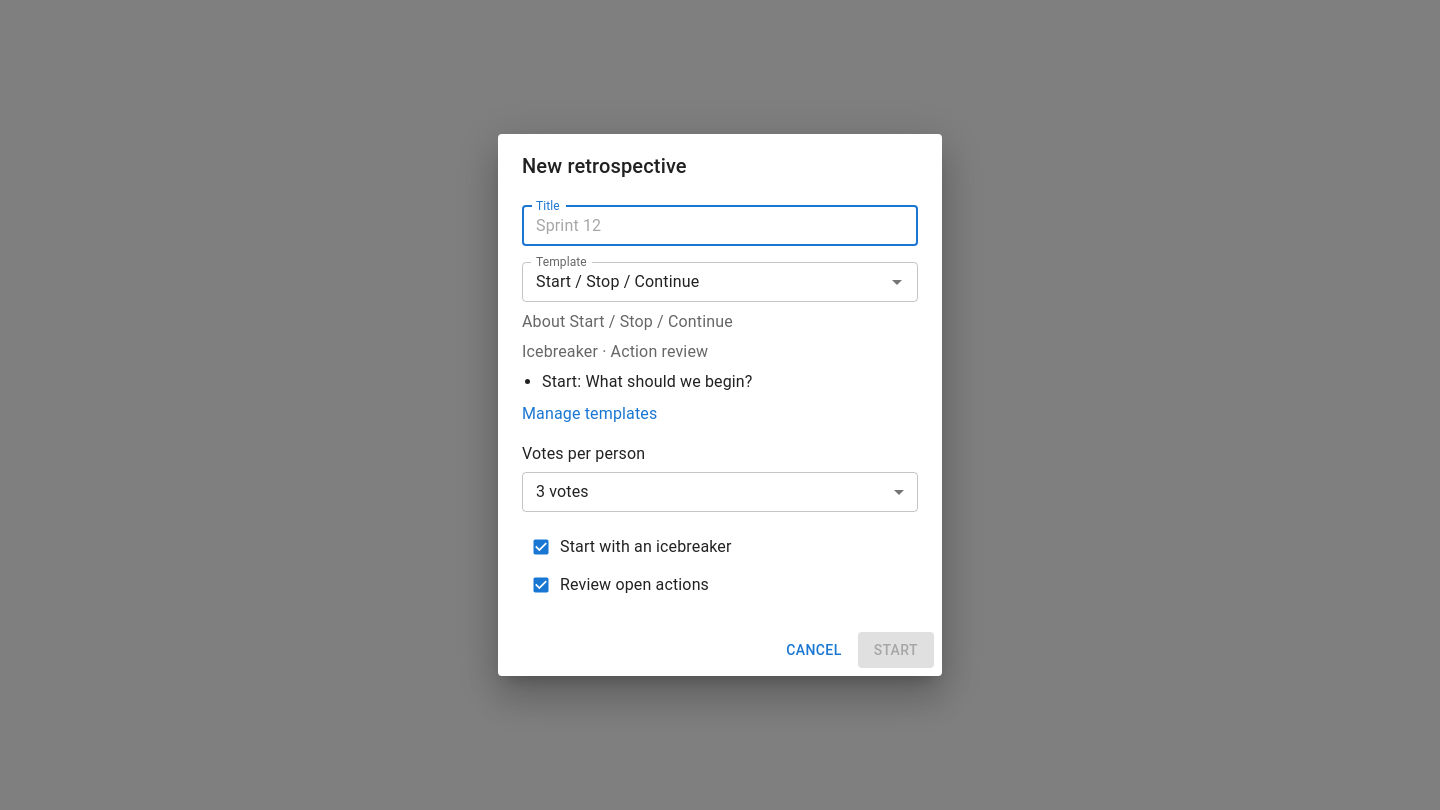
NewRetroDialog › preselects the default template and flags it
This screenshot has width=1440, height=810.
Press the mouse on the dropdown labelled "Template": (704, 282) [528,268,879,296]
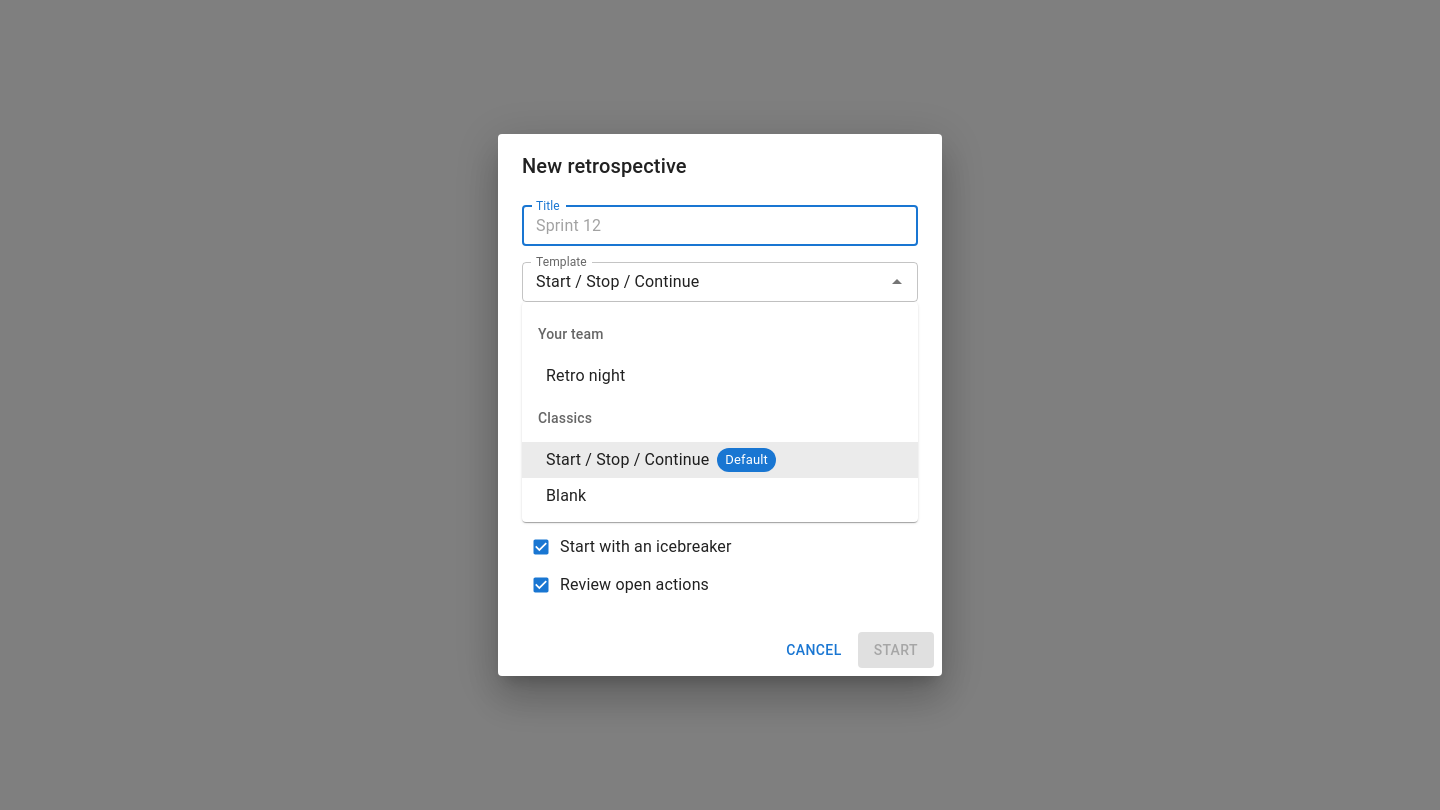
Now the text "Default" is shown once, box [725,452,768,467]
